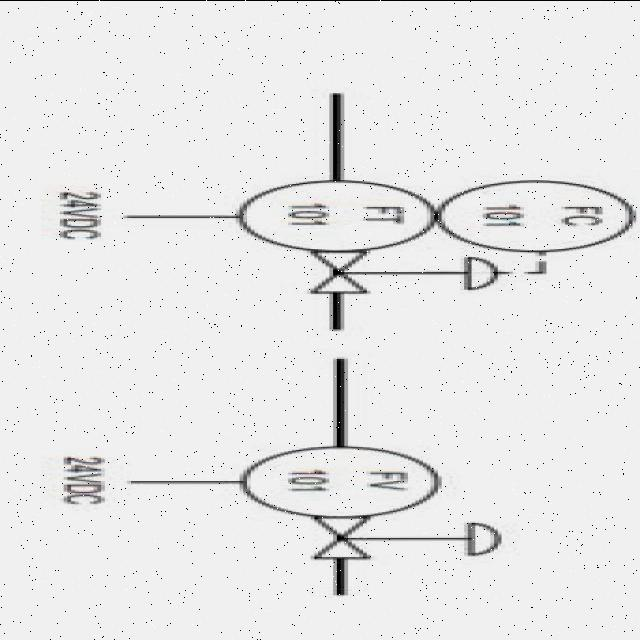Pneumatic-Diaphragm Gate Valve: (300, 514, 517, 566), (302, 250, 512, 296)
